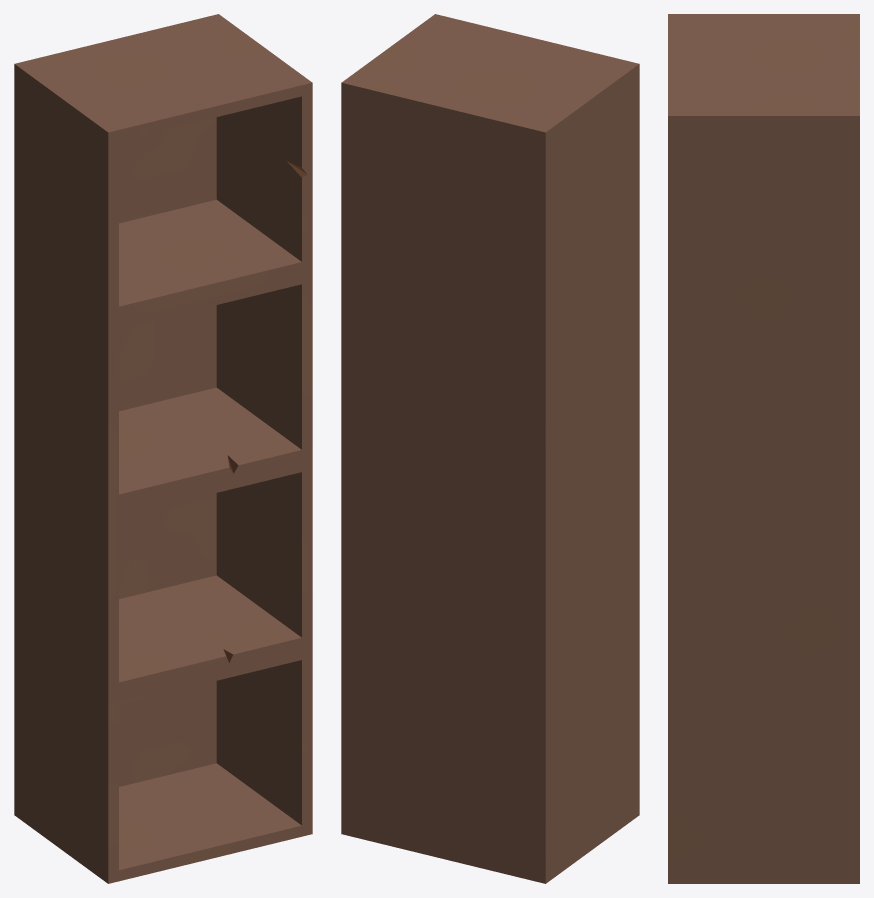
Rendered from Shelf_01_01_Damaged.fbx.
3 views of the same model, side by side, from view 1: azimuth 30°, elevation 25°; view 2: azimuth 150°, elevation 25°; view 3: azimuth 270°, elevation 25° (orthographic). The views are drawn at different scales.
Visible parts, largest first — view 1: Shelf_01_01_Damaged; view 2: Shelf_01_01_Damaged; view 3: Shelf_01_01_Damaged.
Boxes of the visible parts, x1,y1,x2,y2 form: Shelf_01_01_Damaged: [14, 14, 312, 883]; Shelf_01_01_Damaged: [341, 14, 639, 883]; Shelf_01_01_Damaged: [668, 14, 859, 883].
Bounding box in the file's own units: 0.4966 × 1.75 × 0.3952.
